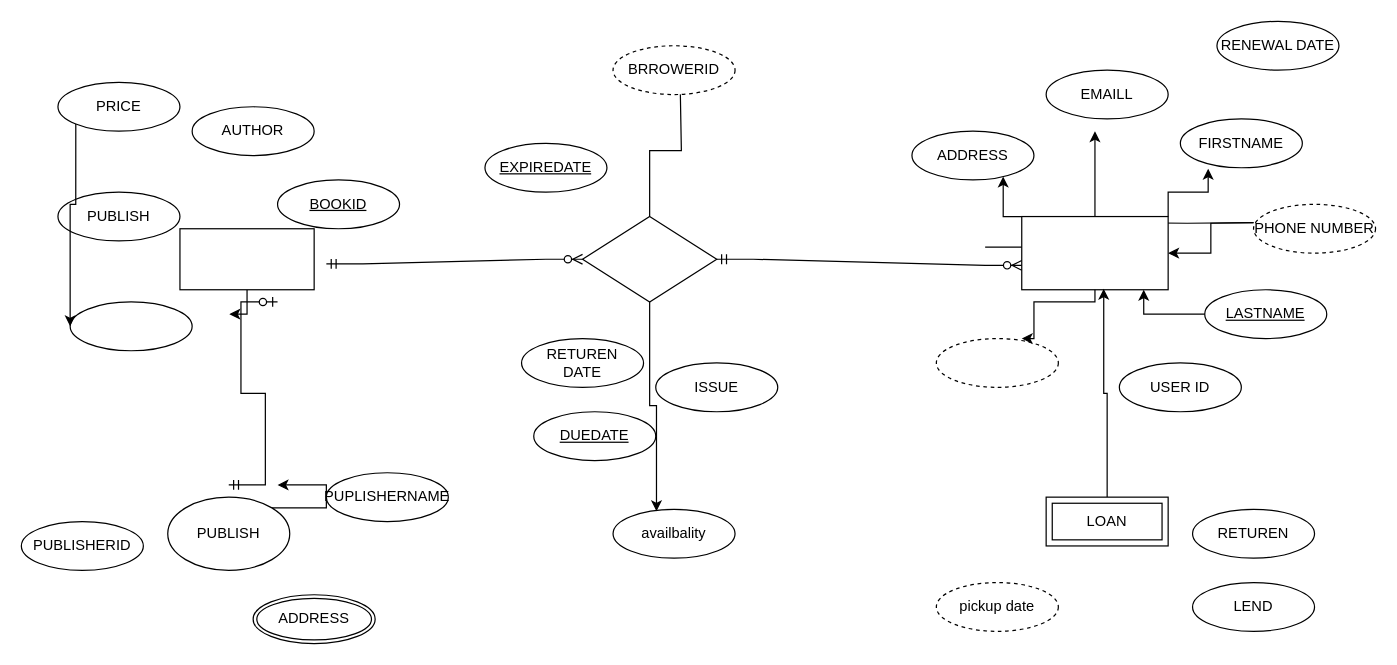
This 1397x665 diagram has some shape labels left out. Each missing label, with the box of its shape:
BOOK: (179, 228, 314, 290)
BROOWER: (581, 215, 717, 302)
MEMBER: (1021, 215, 1168, 290)
MEMEBRID: (935, 337, 1058, 387)
TITLE: (69, 301, 192, 351)
